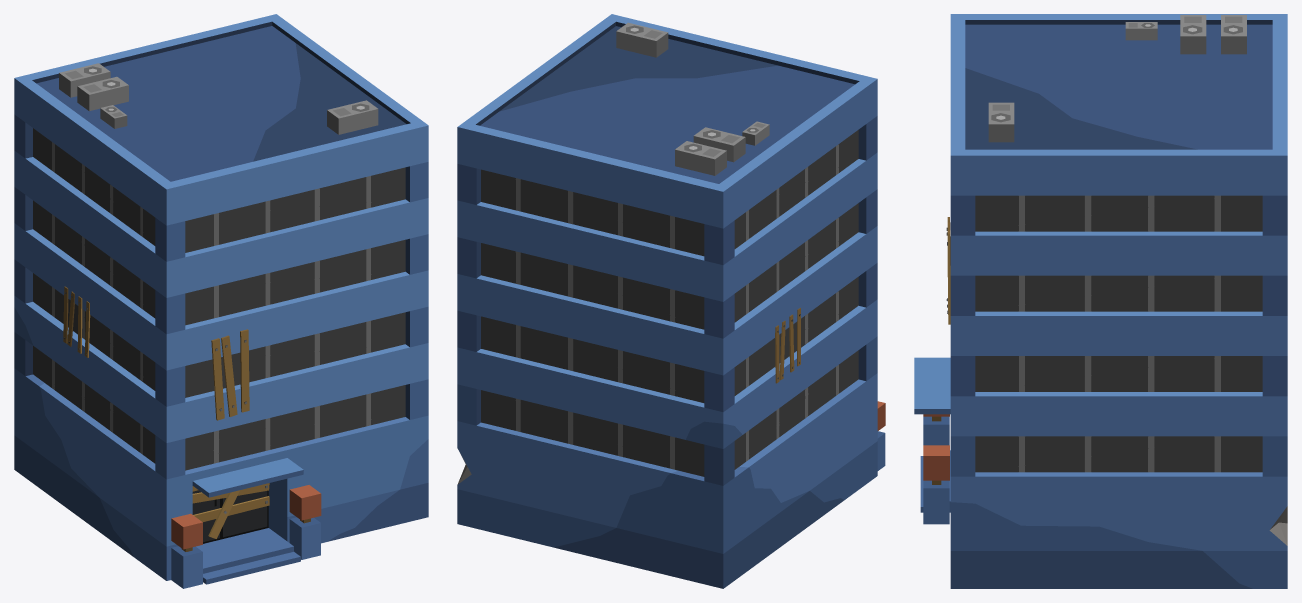
Rendered from SA_Bld_OfficeBlue_02.glb.
3 views of the same model, side by side, from view 1: azimuth 30°, elevation 25°; view 2: azimuth 150°, elevation 25°; view 3: azimuth 270°, elevation 25° (orthographic). The views are drawn at different scales.
Parts seen in each view (by area): view 1: SA_Bld_OfficeBlue_02; view 2: SA_Bld_OfficeBlue_02; view 3: SA_Bld_OfficeBlue_02.
Boxes of the visible parts, x1,y1,x2,y2 form: SA_Bld_OfficeBlue_02: (14, 14, 428, 588); SA_Bld_OfficeBlue_02: (457, 14, 885, 588); SA_Bld_OfficeBlue_02: (914, 14, 1287, 588).
Bounding box in the file's own units: 5.77 × 8.42 × 6.37.
Materials: 1 (1 with a texture image).
